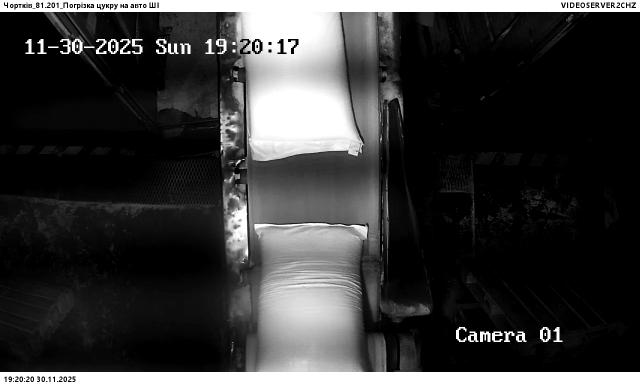bag: (242, 12, 362, 161), (256, 223, 376, 372)
